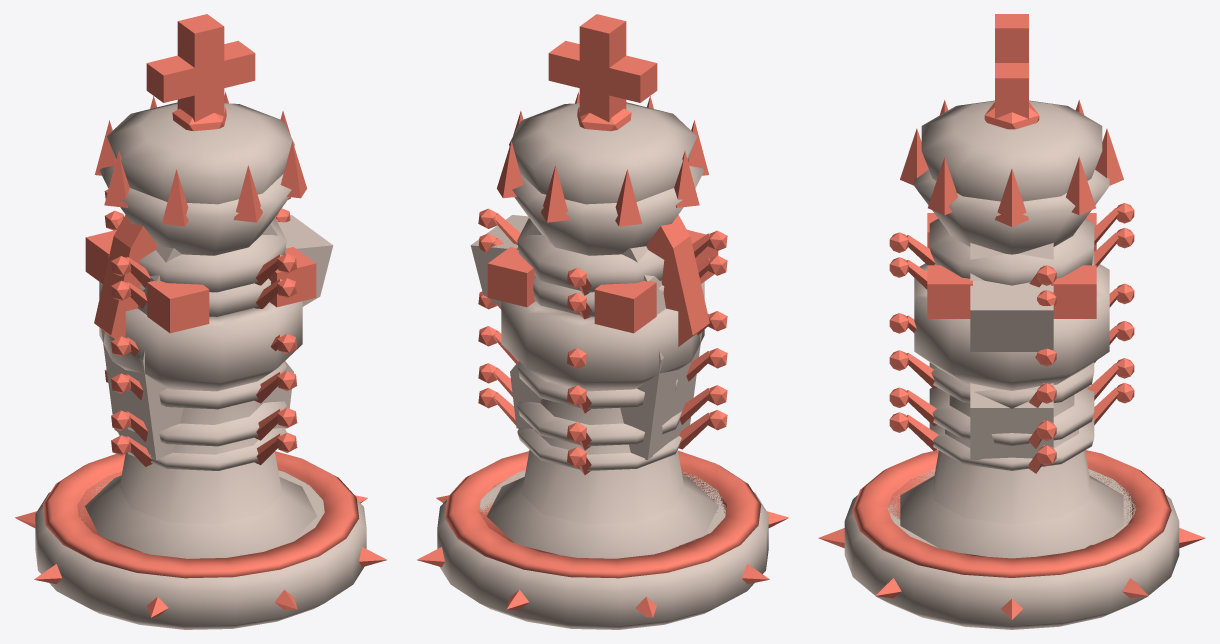
Rendered from coral.glb.
3 views of the same model, side by side, from view 1: azimuth 30°, elevation 25°; view 2: azimuth 150°, elevation 25°; view 3: azimuth 270°, elevation 25° (orthographic).
Parts seen in each view (by area): view 1: K, disc, R, Q, N, B, P; view 2: K, disc, R, N, Q, B, P; view 3: K, disc, R, N, Q, B, P.
Boxes of the visible parts, x1=… form: K: x1=104, y1=14, x2=297, y2=524; disc: x1=15, y1=451, x2=386, y2=629; R: x1=85, y1=230, x2=316, y2=409; Q: x1=95, y1=92, x2=306, y2=316; N: x1=94, y1=215, x2=333, y2=470; B: x1=85, y1=235, x2=316, y2=558; P: x1=111, y1=401, x2=297, y2=446; K: x1=478, y1=14, x2=727, y2=524; disc: x1=417, y1=450, x2=788, y2=629; R: x1=478, y1=230, x2=727, y2=413; N: x1=470, y1=215, x2=727, y2=474; Q: x1=478, y1=92, x2=727, y2=319; B: x1=478, y1=235, x2=727, y2=558; P: x1=478, y1=363, x2=727, y2=450; K: x1=889, y1=14, x2=1134, y2=524; disc: x1=818, y1=450, x2=1205, y2=629; R: x1=889, y1=213, x2=1134, y2=408; N: x1=889, y1=243, x2=1134, y2=473; Q: x1=889, y1=100, x2=1134, y2=306; B: x1=889, y1=240, x2=1134, y2=558; P: x1=889, y1=358, x2=1134, y2=448.
Bounding box in the file's own units: 1.02 × 1.58 × 1.02.
